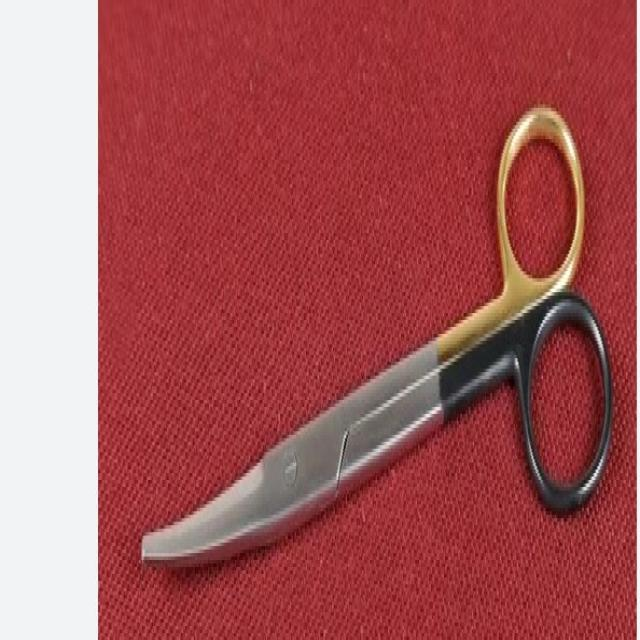Curved Mayo: (138, 87, 616, 574)
